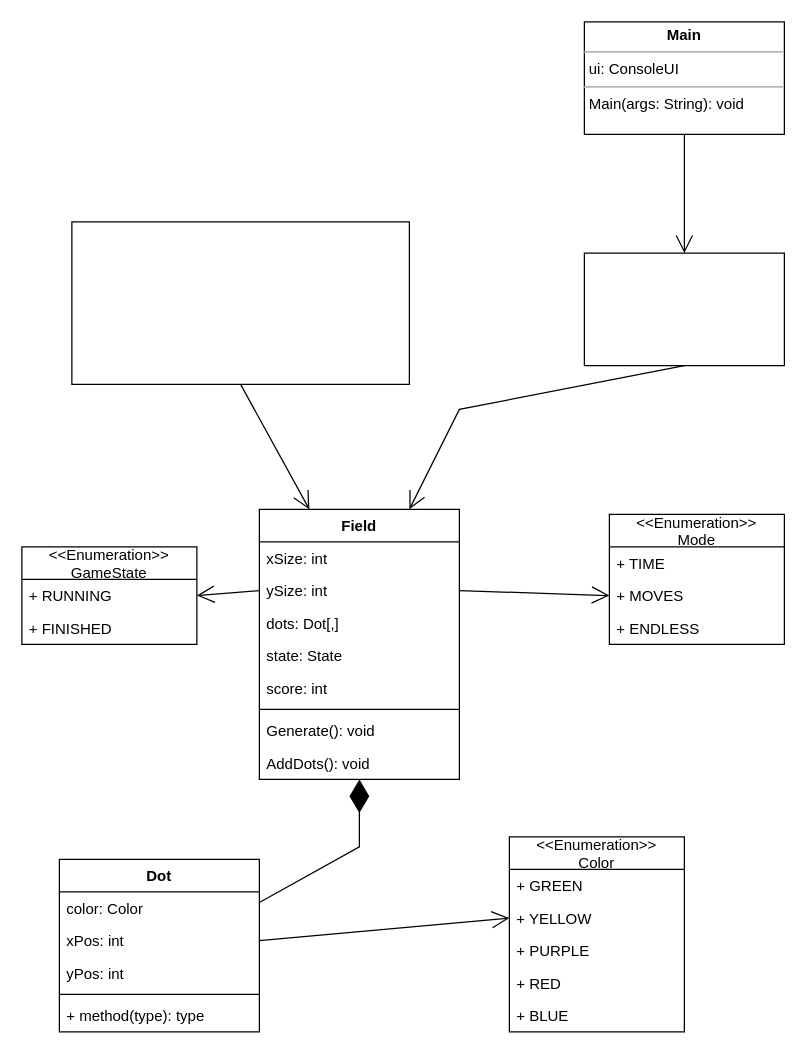
Image size: 806x1058. Some labels were removed from this diagram. Here are the shapes that lost their labels. From the top down, the centre of each, then its label:
At (x=240, y=302): "Controls Connect(xDot, yDot, direction): boolean".
At (x=683, y=309): "ConsoleUI field: Field Navigate(): void".
